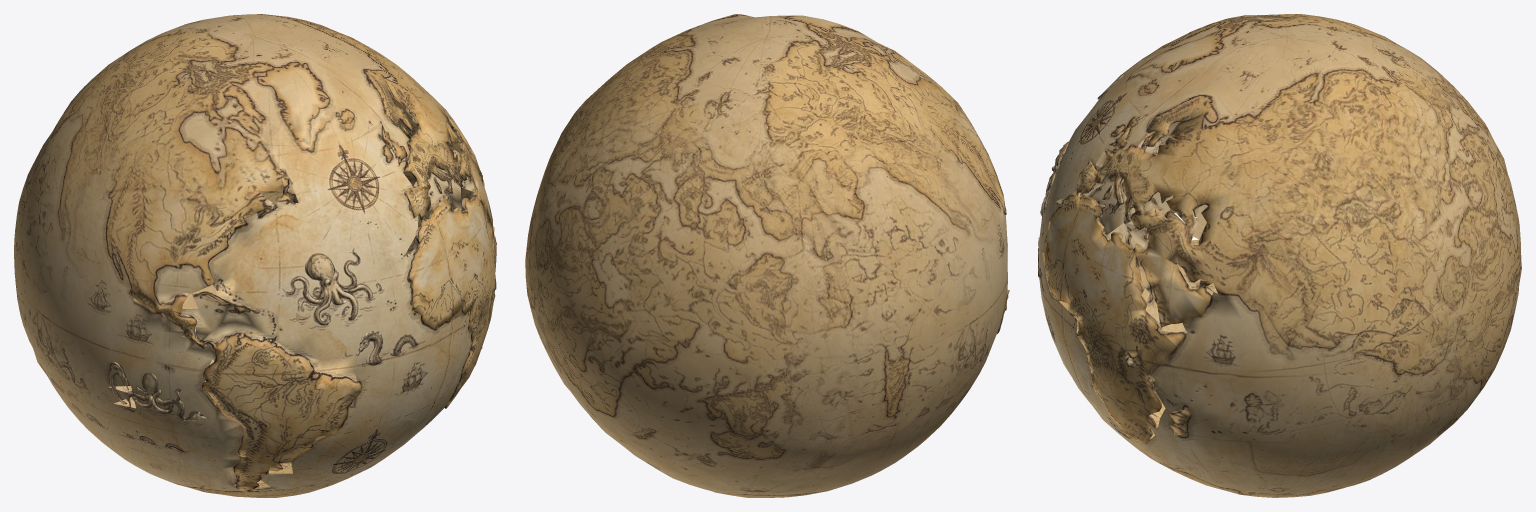
Rendered from globe_ball.glb.
3 views of the same model, side by side, from view 1: azimuth 30°, elevation 25°; view 2: azimuth 150°, elevation 25°; view 3: azimuth 270°, elevation 25° (orthographic).
Size of the model in its own units: 0.9463 by 0.9492 by 0.9468.
Materials: 1 (1 with a texture image).
